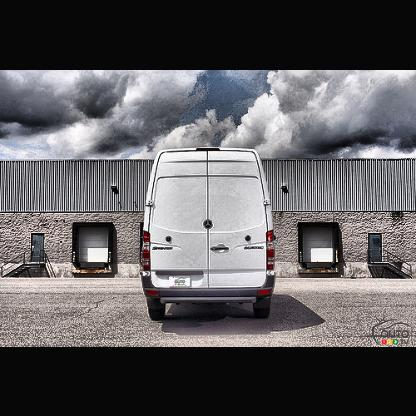Mercedes-Benz Sprinter Van 2012: (141, 147, 278, 324)
